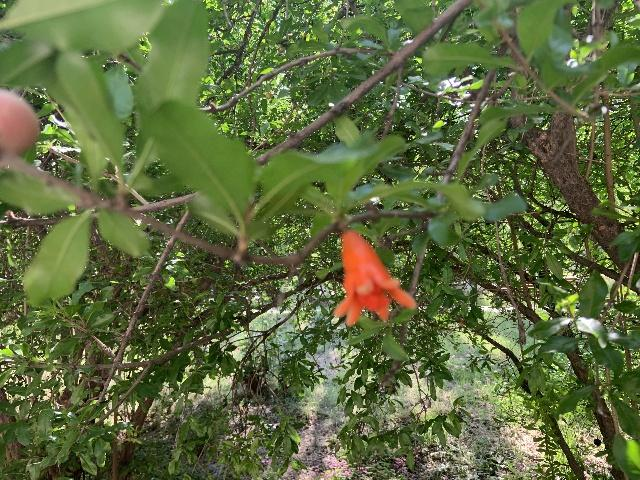flower: (332, 229, 416, 326)
